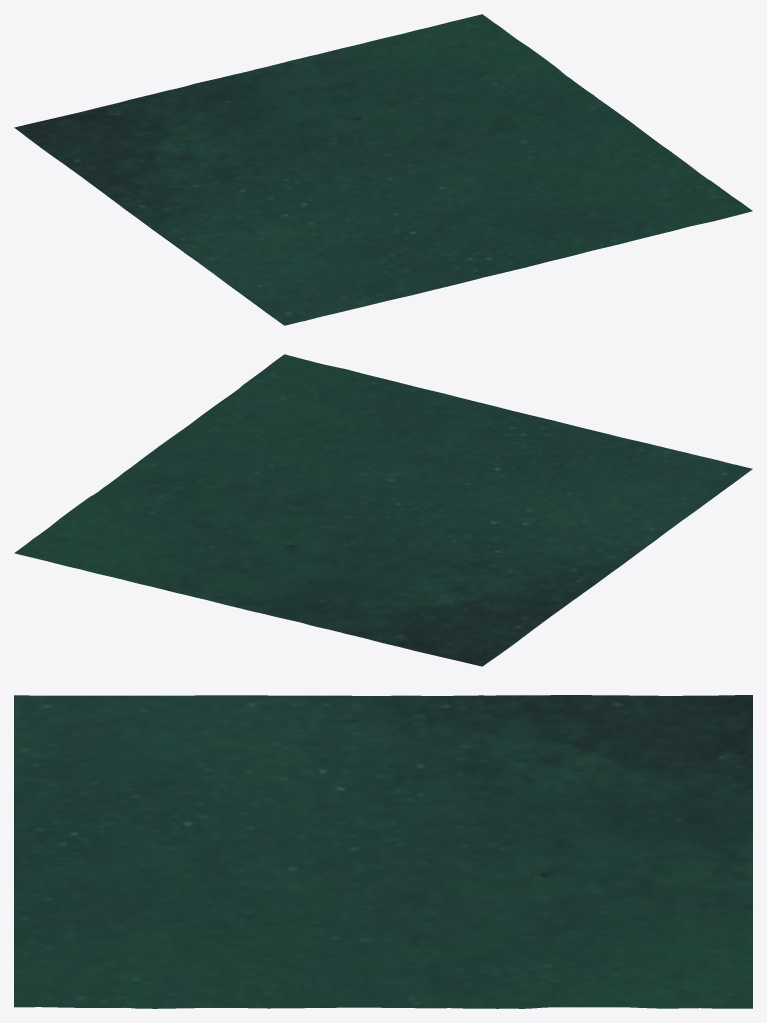
3 views of the same model, one above another, from view 1: azimuth 30°, elevation 25°; view 2: azimuth 150°, elevation 25°; view 3: azimuth 270°, elevation 25° (orthographic). The views are drawn at different scales.
Bounding box in the file's own units: 104 × 0.4333 × 104.
Materials: 2 (2 with a texture image).
